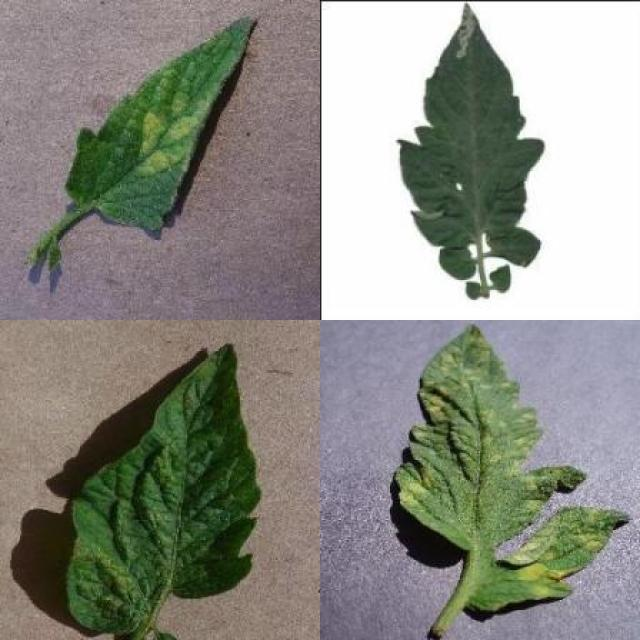Leaf Miner: (397, 1, 550, 250)
Leaf Mold: (397, 322, 630, 612), (68, 14, 258, 232)
Spider Mites: (67, 341, 262, 636)
